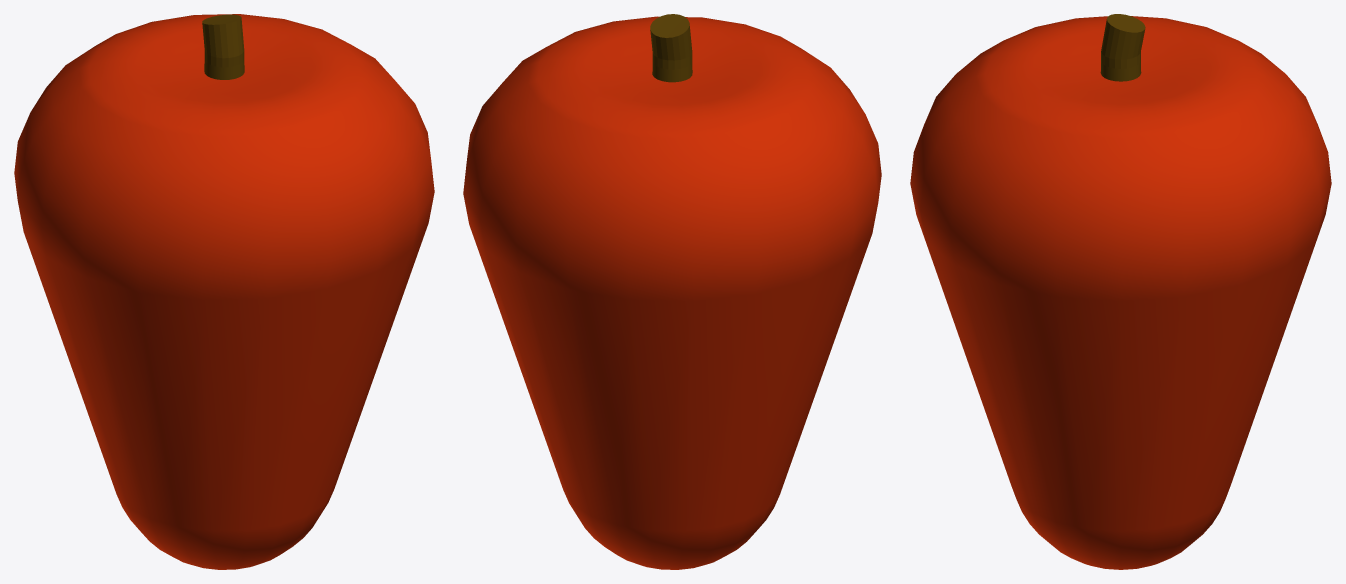
File: strawberry.fbx
The picture shows the model from 3 angles, left to right: view 1: azimuth 30°, elevation 25°; view 2: azimuth 150°, elevation 25°; view 3: azimuth 270°, elevation 25°; orthographic projection.
Visible parts, largest first — view 1: Strawberry; view 2: Strawberry; view 3: Strawberry.
Part boxes in pixels (x1,y1,x2,y2): Strawberry: (14, 14, 434, 569); Strawberry: (463, 14, 881, 569); Strawberry: (910, 14, 1331, 569).
Bounding box in the file's own units: 0.0163 × 0.0231 × 0.0163.
